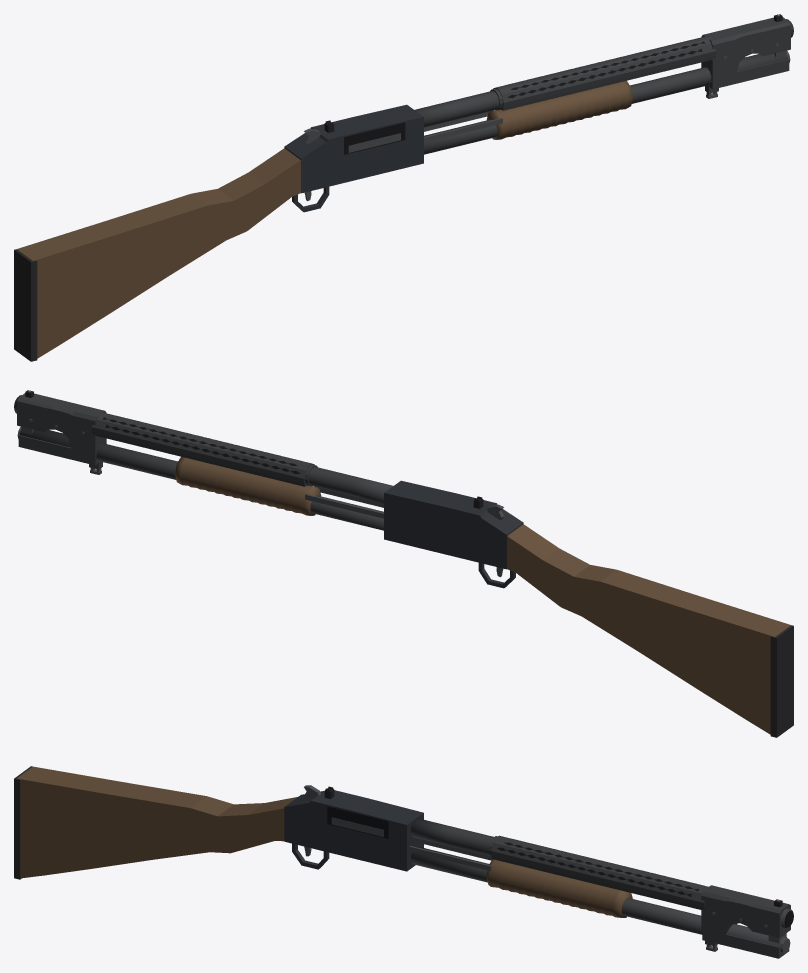
Rendered from winchester_1897_v7_game.fbx.
3 renders of one model, top to bottom at view 1: azimuth 30°, elevation 25°; view 2: azimuth 150°, elevation 25°; view 3: azimuth 330°, elevation 25°, orthographic.
Visible parts, largest first — view 1: winchester_1897_v7; view 2: winchester_1897_v7; view 3: winchester_1897_v7.
Part boxes in pixels (x1,y1,x2,y2): winchester_1897_v7: [14, 14, 793, 361]; winchester_1897_v7: [14, 390, 793, 737]; winchester_1897_v7: [14, 766, 793, 958].
Size of what is drawn, in the model's own units: 1 by 0.198 by 0.0386.
